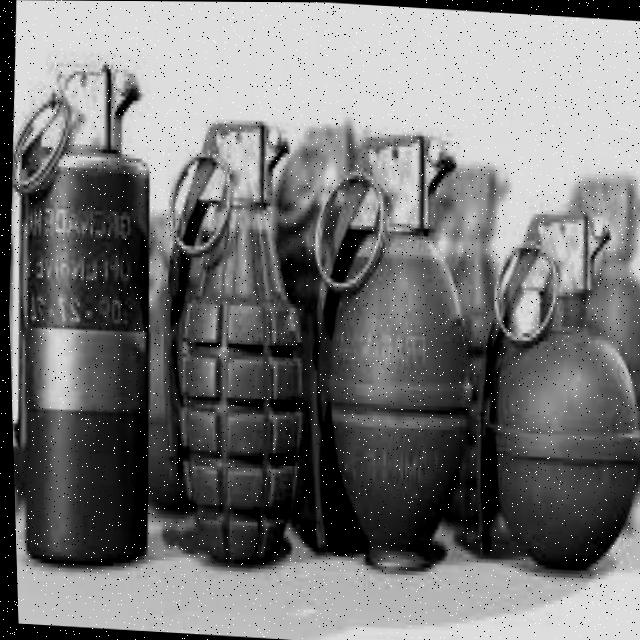grenade: (286, 118, 492, 581), (1, 55, 174, 571), (139, 99, 321, 537), (470, 194, 640, 573)
